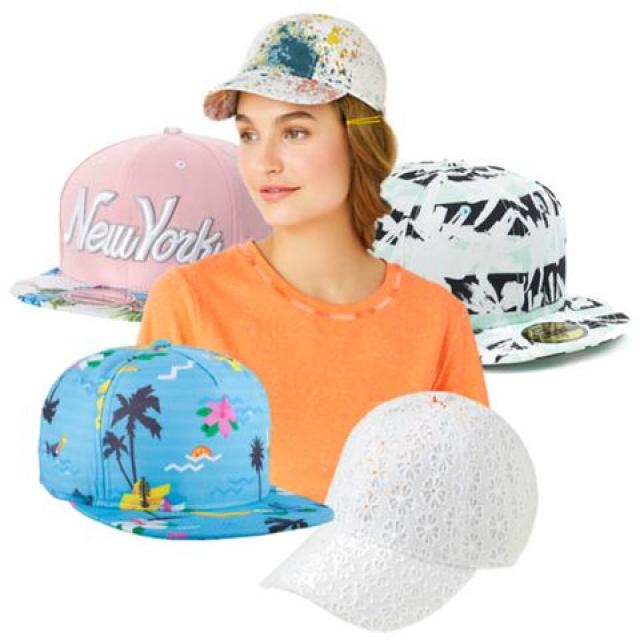3_gorra: (200, 13, 391, 121)
